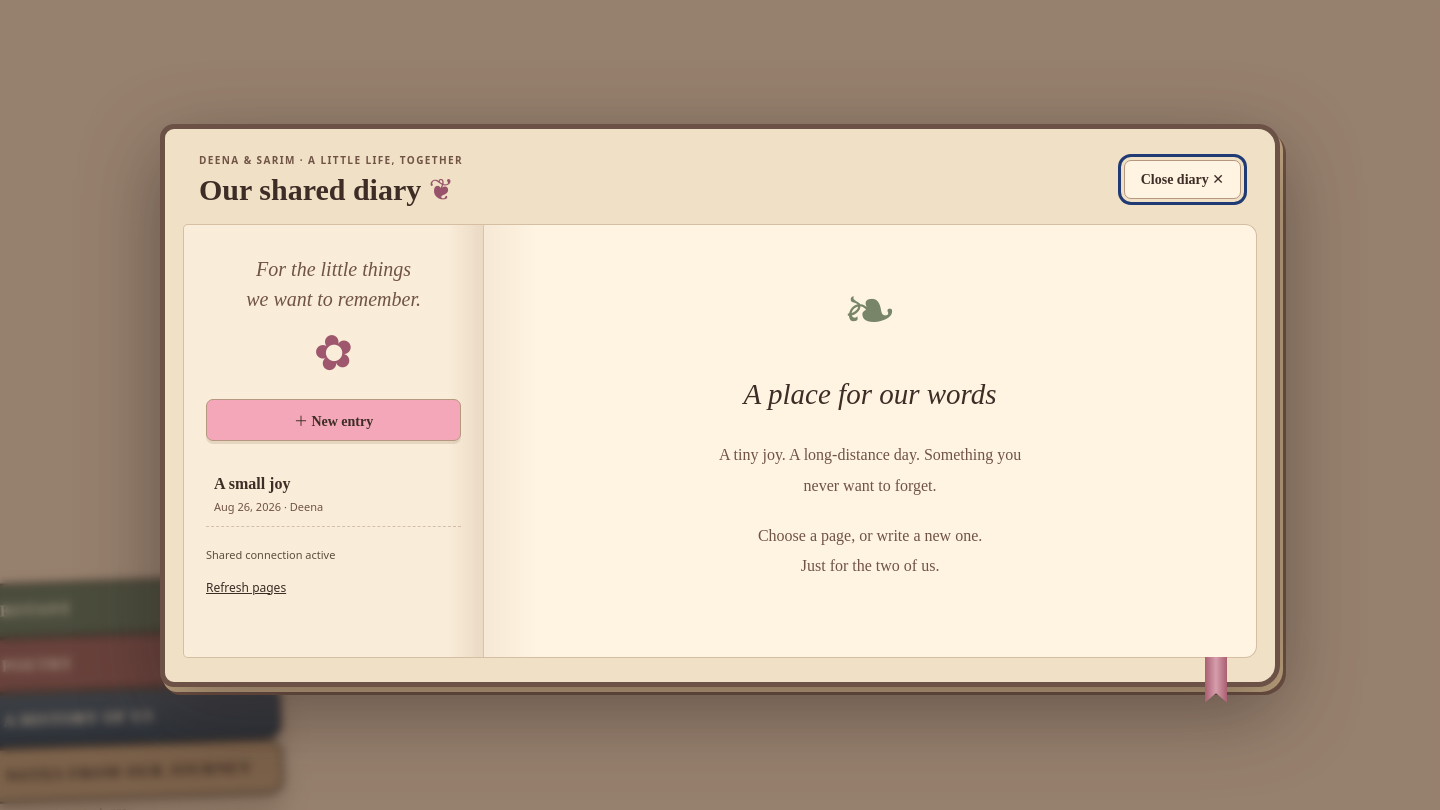
Test case: interactive bookshelf and diary › removes an open editing draft from view after membership is revoked
Expected: the button "＋ New entry" is enabled, x1=206 y1=398 x2=461 y2=440
Click the button "A small joy Aug 26, 2026 · Deena" at (334, 494), box x1=206 y1=460 x2=461 y2=527
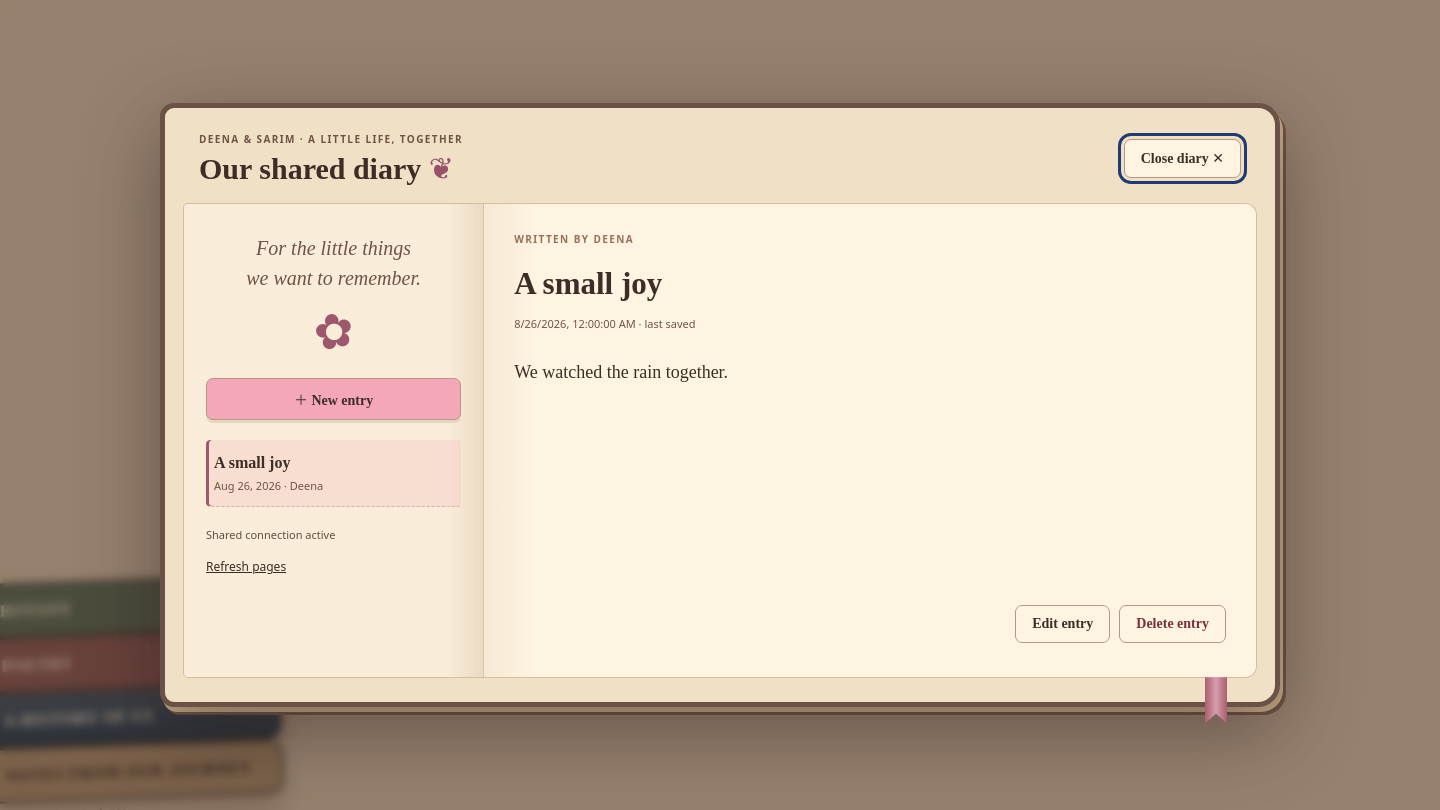
Click the button "Edit entry" at (1063, 624), box x1=1015 y1=605 x2=1110 y2=643
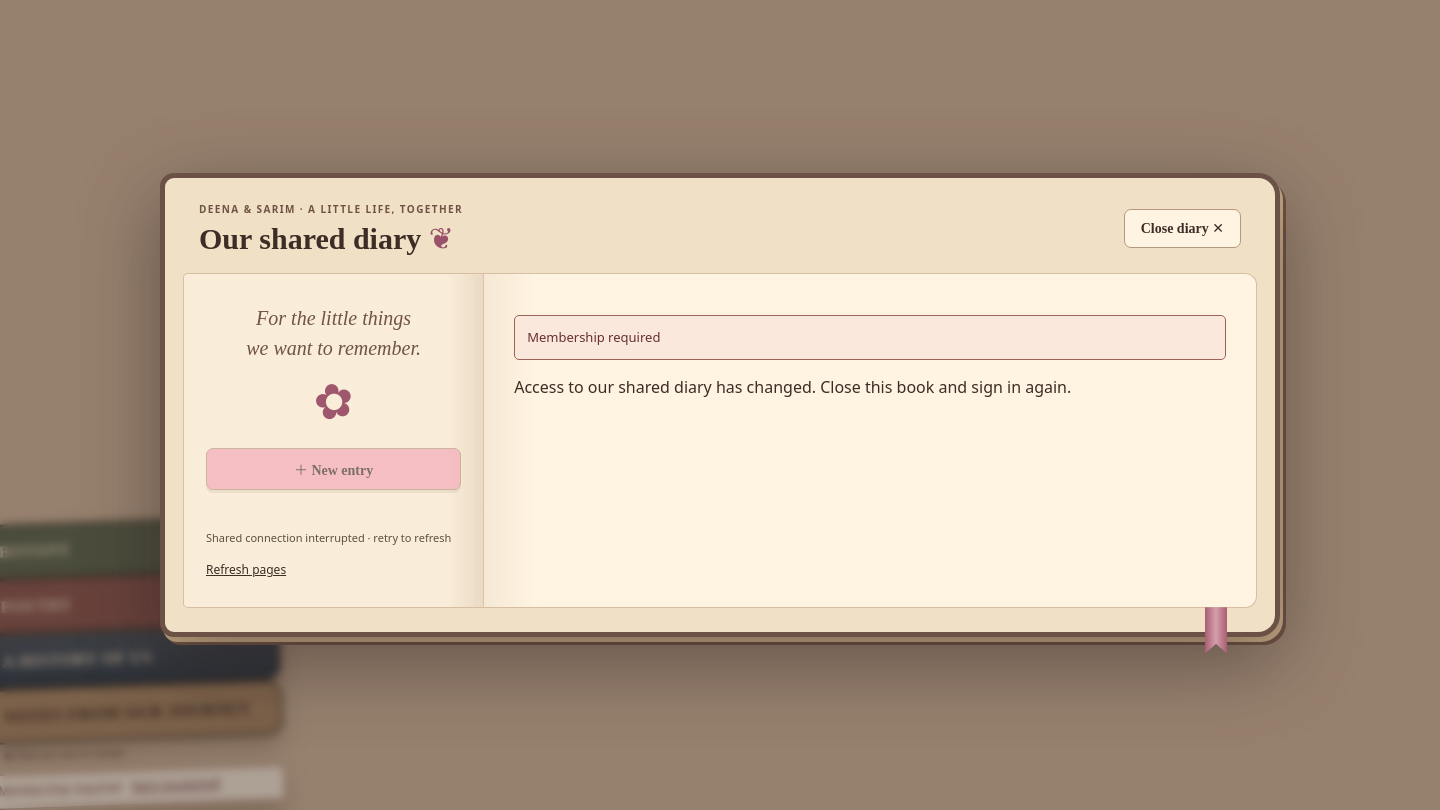
Expected: the text "Access to our shared diary has changed. Close this book and sign in again." is shown, x1=514 y1=376 x2=1071 y2=398
Expected: the text "We watched the rain together." is gone
Expected: the button "＋ New entry" is disabled, x1=206 y1=448 x2=461 y2=490
